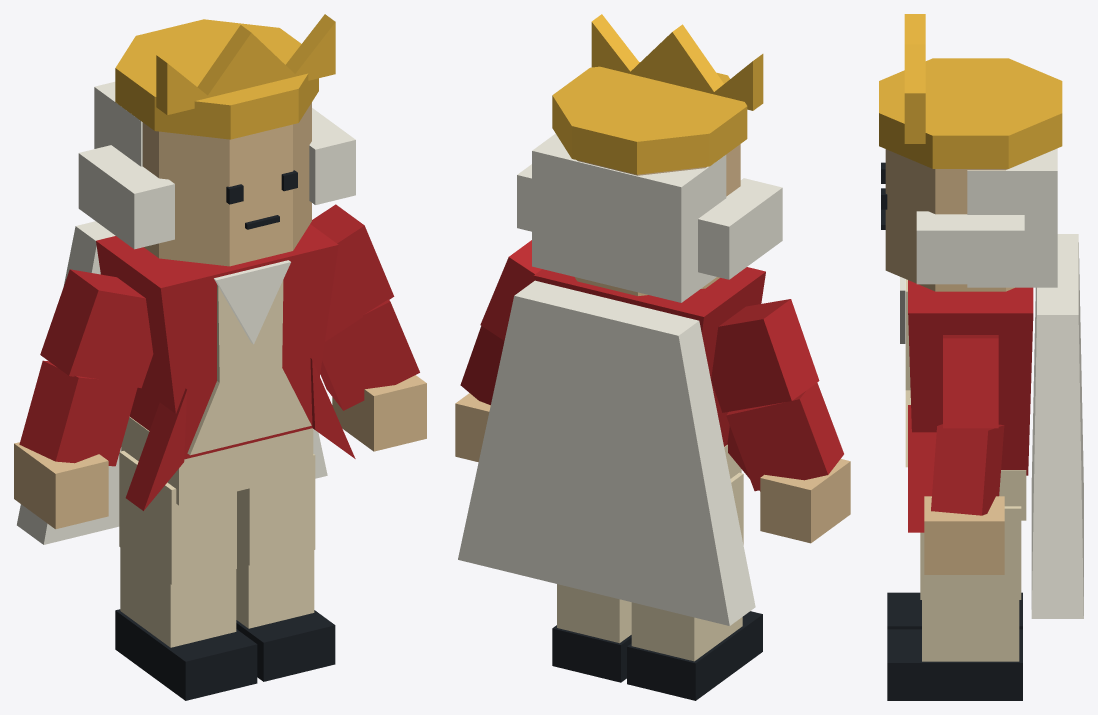
The model's file is GeorgeIII.glb.
The picture shows the model from 3 angles, left to right: view 1: azimuth 30°, elevation 25°; view 2: azimuth 150°, elevation 25°; view 3: azimuth 270°, elevation 25°; orthographic projection. The views are drawn at different scales.
Visible parts, largest first — view 1: Body_M_CastV02_red_bf292d, Body_M_CastV02_cream_f1e3bf, Body_M_CastV02_lightSkin_ebca99, Body_M_CastV02_gold_efba3c, Body_M_CastV02_white_f9f7ea, Body_M_CastV02_black_1d2228; view 2: Body_M_CastV02_white_f9f7ea, Body_M_CastV02_red_bf292d, Body_M_CastV02_gold_efba3c, Body_M_CastV02_black_1d2228, Body_M_CastV02_lightSkin_ebca99, Body_M_CastV02_cream_f1e3bf; view 3: Body_M_CastV02_white_f9f7ea, Body_M_CastV02_red_bf292d, Body_M_CastV02_gold_efba3c, Body_M_CastV02_lightSkin_ebca99, Body_M_CastV02_cream_f1e3bf, Body_M_CastV02_black_1d2228.
Boxes of the visible parts, x1,y1,x2,y2 form: Body_M_CastV02_red_bf292d: [19, 204, 419, 510]; Body_M_CastV02_cream_f1e3bf: [119, 280, 315, 647]; Body_M_CastV02_lightSkin_ebca99: [14, 102, 426, 529]; Body_M_CastV02_gold_efba3c: [115, 14, 335, 139]; Body_M_CastV02_white_f9f7ea: [17, 81, 355, 544]; Body_M_CastV02_black_1d2228: [115, 170, 335, 700]; Body_M_CastV02_white_f9f7ea: [458, 133, 782, 625]; Body_M_CastV02_red_bf292d: [460, 240, 843, 491]; Body_M_CastV02_gold_efba3c: [552, 14, 763, 174]; Body_M_CastV02_black_1d2228: [552, 611, 762, 700]; Body_M_CastV02_lightSkin_ebca99: [455, 144, 850, 543]; Body_M_CastV02_cream_f1e3bf: [557, 444, 743, 661]; Body_M_CastV02_white_f9f7ea: [900, 148, 1083, 618]; Body_M_CastV02_red_bf292d: [908, 280, 1033, 532]; Body_M_CastV02_gold_efba3c: [879, 14, 1062, 168]; Body_M_CastV02_lightSkin_ebca99: [885, 149, 1054, 574]; Body_M_CastV02_cream_f1e3bf: [905, 279, 1026, 661]; Body_M_CastV02_black_1d2228: [881, 162, 1022, 700].
Bounding box in the file's own units: 1.23 × 1.97 × 0.5883.
